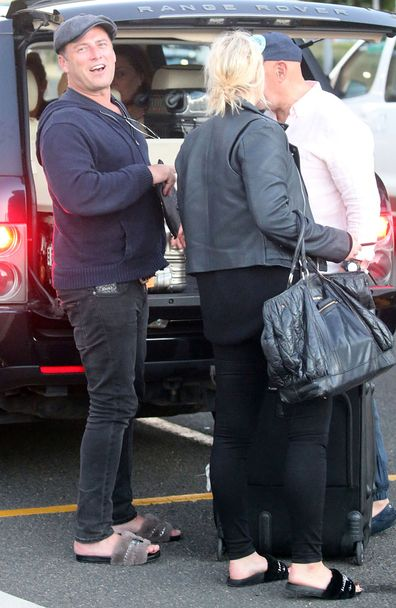Person: (174, 31, 359, 598), (35, 16, 176, 564)
